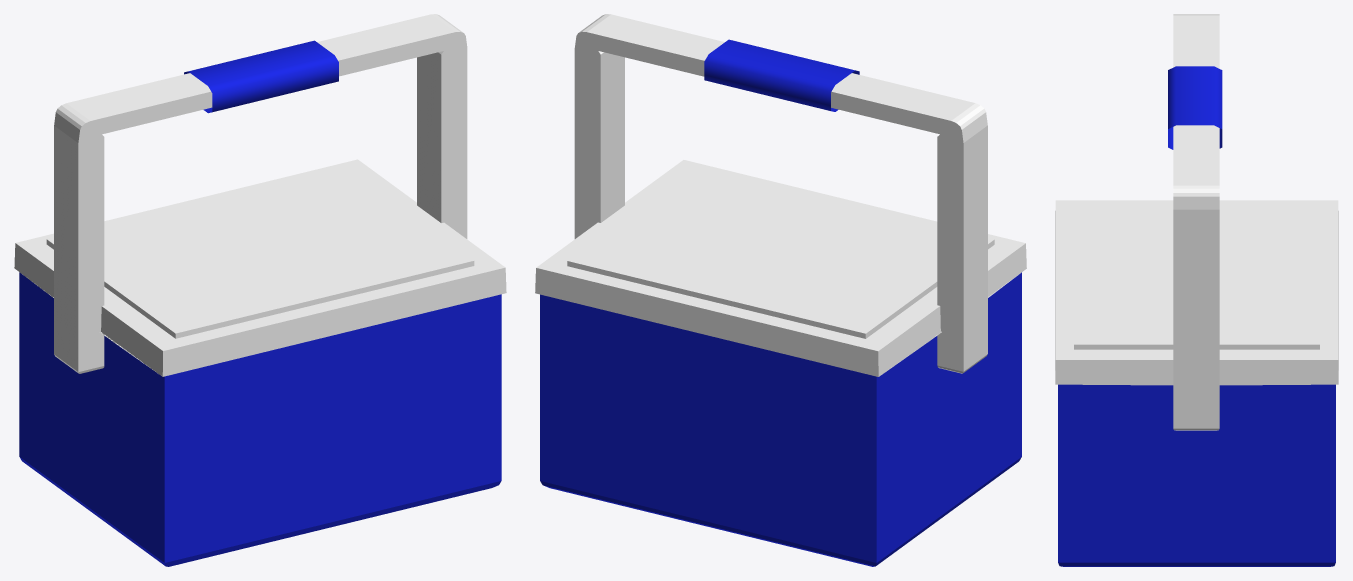
The model's file is Fishing Box.fbx.
3 renders of one model, left to right at view 1: azimuth 30°, elevation 25°; view 2: azimuth 150°, elevation 25°; view 3: azimuth 270°, elevation 25°, orthographic. The views are drawn at different scales.
Parts seen in each view (by area): view 1: Fishing Box; view 2: Fishing Box; view 3: Fishing Box.
Part boxes in pixels (x1,y1,x2,y2): Fishing Box: (14, 14, 506, 566); Fishing Box: (535, 14, 1026, 566); Fishing Box: (1055, 14, 1338, 566).
Bounding box in the file's own units: 0.8313 × 0.8475 × 0.5489.
